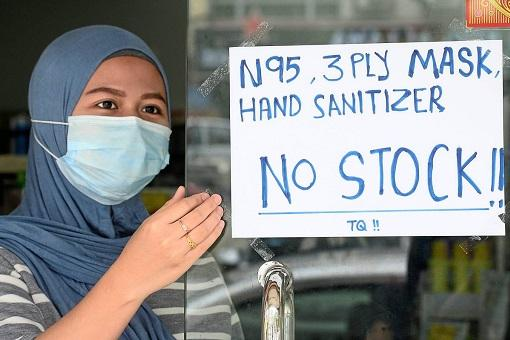Wearing Mask: (7, 1, 194, 215)
